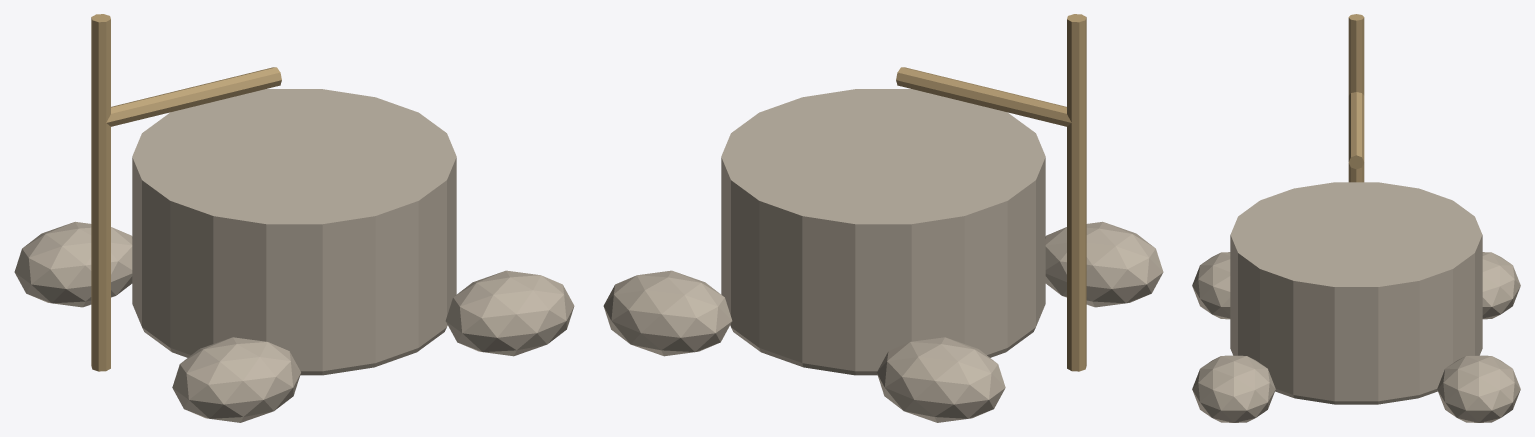
The model's file is water_basin.glb.
3 views of the same model, side by side, from view 1: azimuth 30°, elevation 25°; view 2: azimuth 150°, elevation 25°; view 3: azimuth 270°, elevation 25° (orthographic). The views are drawn at different scales.
Parts seen in each view (by area): view 1: water_basin; view 2: water_basin; view 3: water_basin.
Boxes of the visible parts, x1,y1,x2,y2 form: water_basin: [14, 14, 574, 422]; water_basin: [603, 14, 1163, 422]; water_basin: [1192, 14, 1520, 422].
Size of the model in its own units: 1.12 by 0.963 by 1.04.
